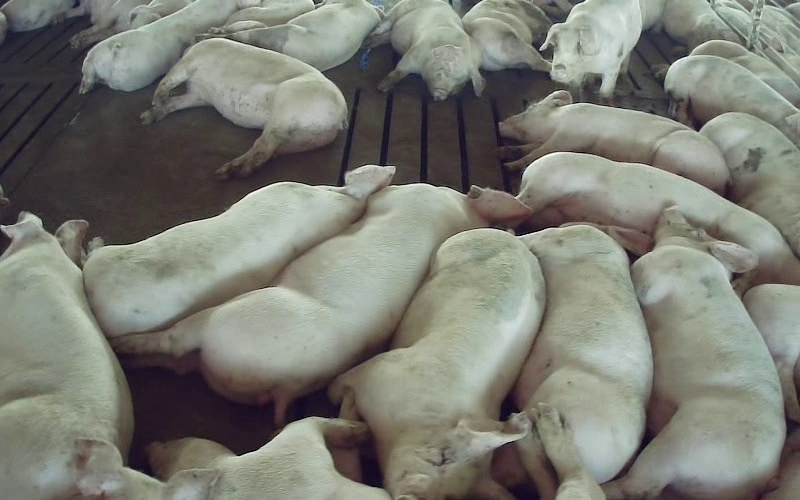pig: (330, 229, 544, 499), (606, 207, 785, 499), (517, 152, 799, 293), (0, 212, 132, 499), (514, 224, 652, 481), (141, 38, 346, 179), (499, 91, 729, 194), (147, 418, 389, 499), (700, 112, 799, 257), (664, 55, 799, 147), (366, 0, 484, 100), (228, 0, 380, 70), (462, 0, 552, 71)
